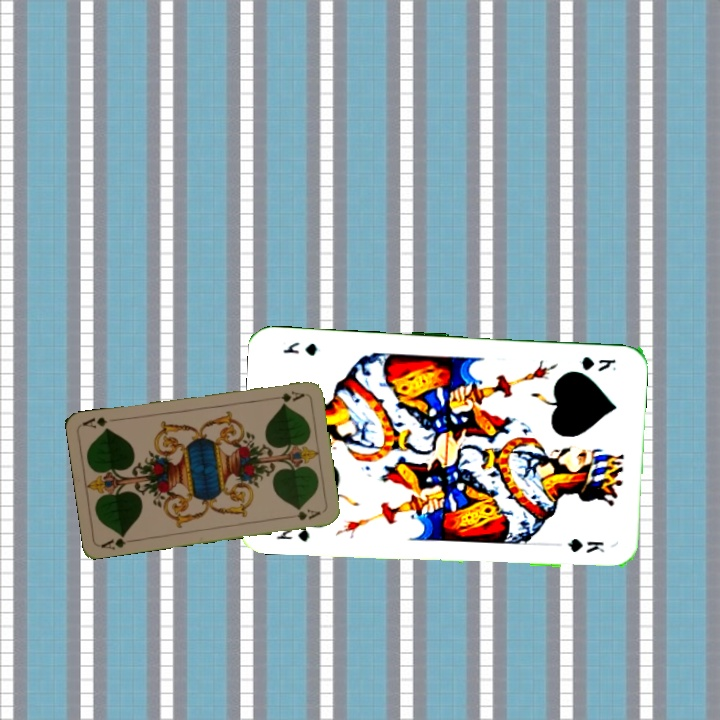GA: (97, 530, 138, 552), (267, 387, 307, 405)
GK: (577, 353, 619, 375), (272, 525, 312, 544)
